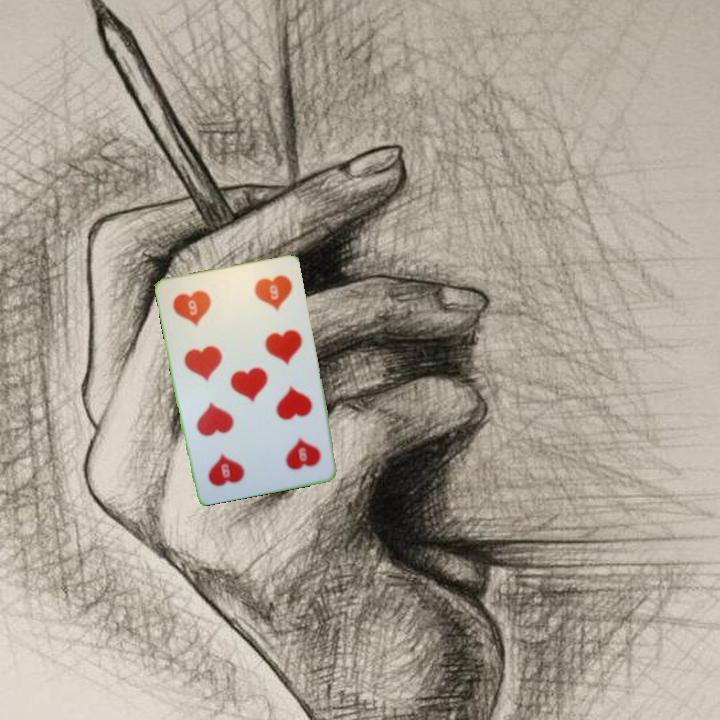h_9.png: (253, 415, 329, 483), (164, 276, 240, 344)
